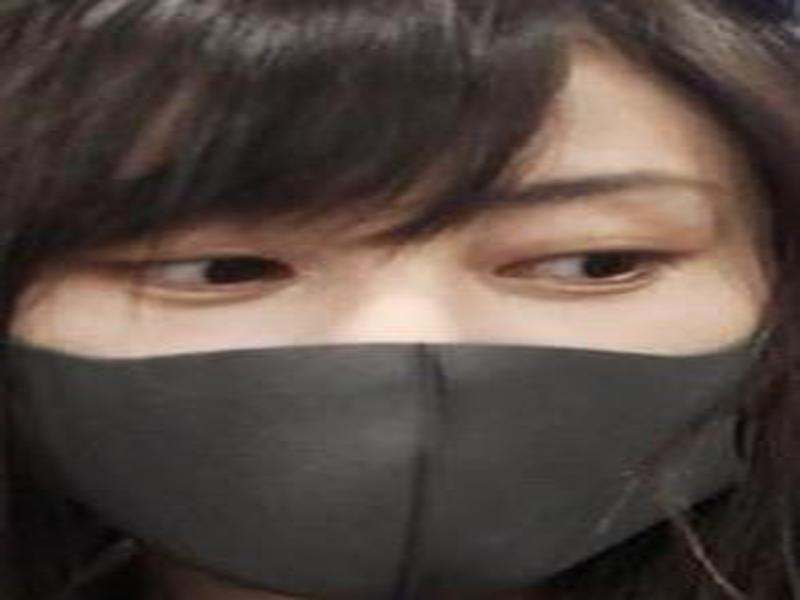with_mask: (1, 4, 791, 600)
